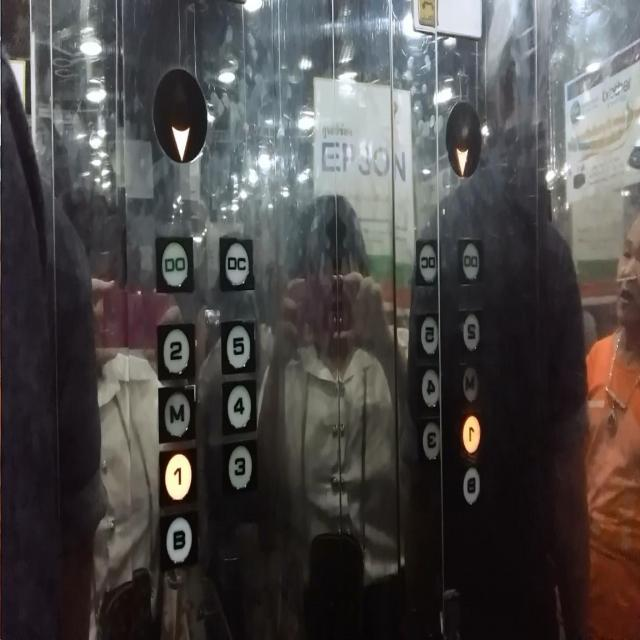1: (156, 443, 198, 509)
2: (157, 327, 195, 379)
3: (222, 443, 258, 497)
4: (222, 378, 256, 436)
5: (221, 320, 254, 376)
B: (156, 512, 198, 572)
M: (157, 386, 195, 443)
close: (218, 238, 254, 292)
led: (150, 61, 210, 168), (443, 95, 484, 179)
open: (154, 237, 193, 293)
unknown: (412, 237, 442, 289), (456, 240, 482, 289), (458, 309, 484, 356), (459, 405, 482, 456), (419, 312, 440, 356), (422, 423, 443, 465), (460, 467, 480, 502), (423, 369, 440, 405), (462, 369, 479, 403)
